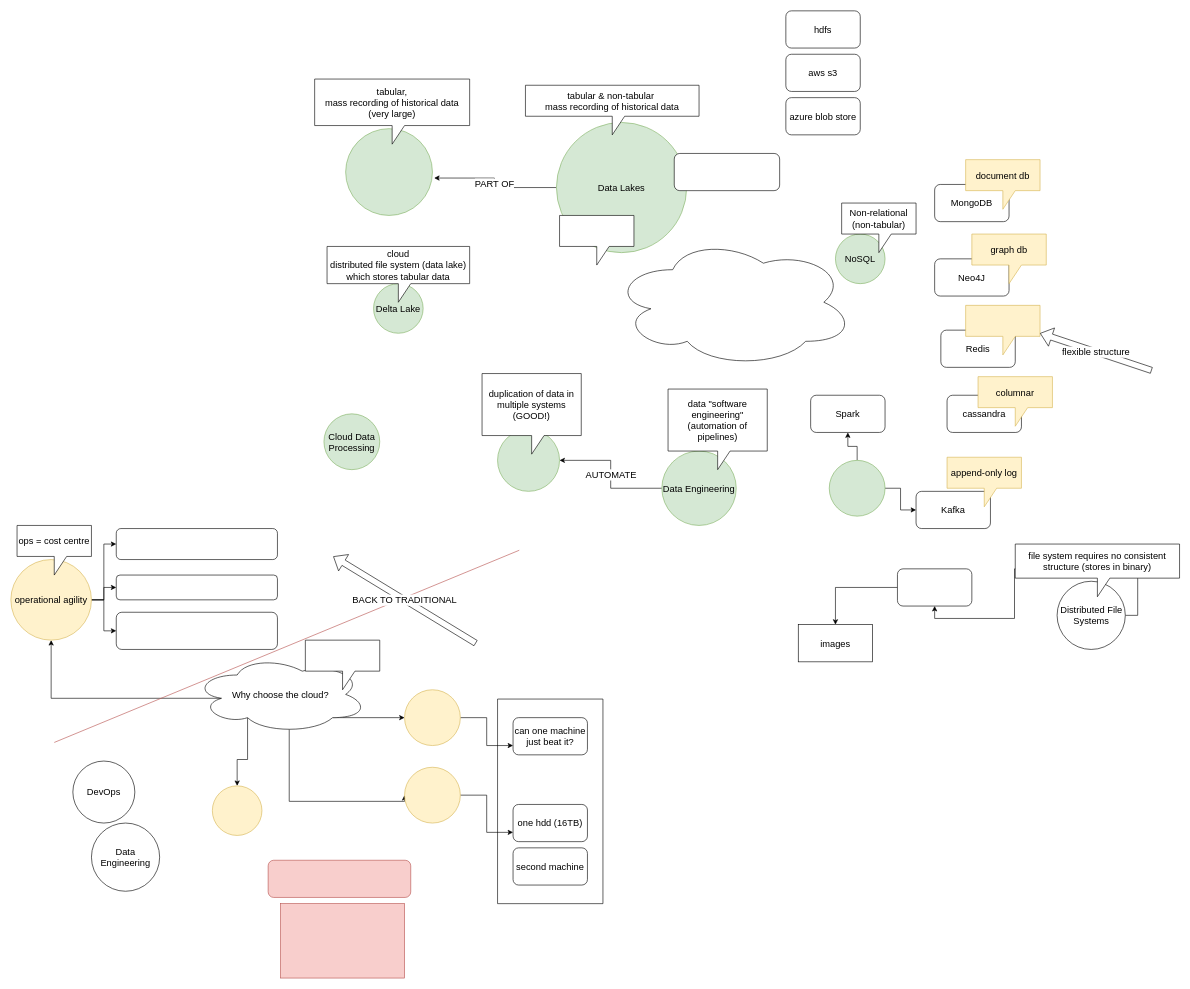
The diagram is 1190 pixels wide and 989 high, and some of its shapes have lost their labels. The shapes that lost their labels are listed below. From the top down, each one's box as (x1, y1, x2, y2) in pixels, then its label:
(345, 128, 432, 215): Data Warehouses (Structured)
(674, 153, 780, 191): distributed file system (store any data)
(559, 215, 634, 265): cloud warehouses
(612, 237, 854, 367): What are big data systems?
(965, 305, 1040, 355): key-value
(497, 429, 560, 491): Polyglot Persistance
(829, 460, 885, 516): Streaming
(116, 528, 277, 560): beaurocratic about purchasing hardward (approval)
(116, 574, 277, 600): ops departments servicing internal IT
(897, 568, 972, 606): Hadoop (HDFS)
(116, 612, 277, 649): cloud vendor has bank account details -- software devs can rent without approval
(305, 640, 380, 690): cloud = revenue generating
(404, 689, 460, 746): avoid need to buy hardware
(212, 785, 262, 835): scaling
(404, 767, 460, 823): redundancy
(497, 698, 603, 904): MUCH CHEAPER
(268, 860, 411, 897): 1 TB RAM 16 TB HDD 20 Core CPU (4ghz)
(280, 903, 405, 978): all data within most organizations query 10,000req/sec+
